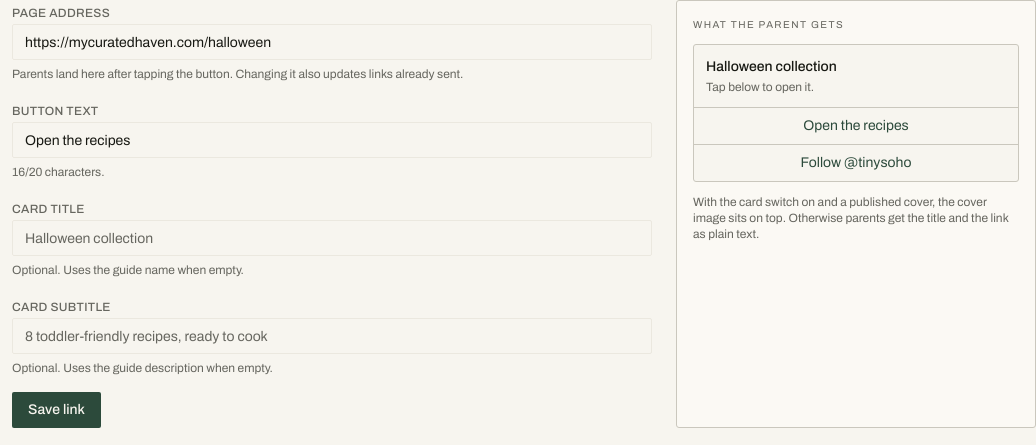
Test case: LinkGuidePanel › won't save an address that isn't https
Step 1. Type "http://mycuratedhaven.com/halloween" into the field with placeholder "https://mycuratedhaven.com/halloween" below "Page address" → (332, 42), box x1=12 y1=24 x2=652 y2=60
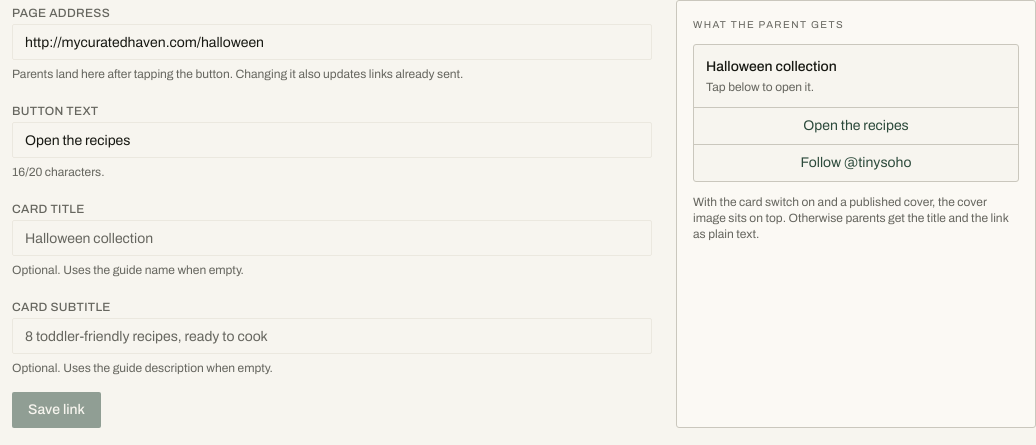
Check: the button "Save link" is disabled, box x1=12 y1=392 x2=101 y2=428
